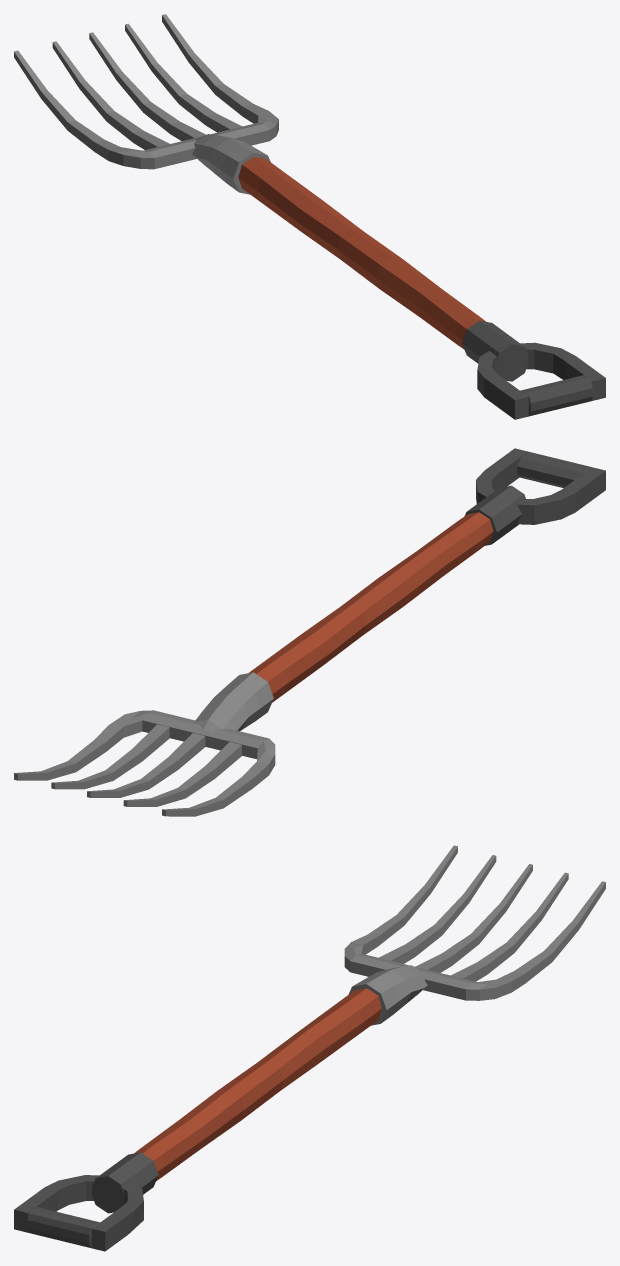
Rendered from pitchfork.glb.
3 renders of one model, top to bottom at view 1: azimuth 30°, elevation 25°; view 2: azimuth 150°, elevation 25°; view 3: azimuth 330°, elevation 25°, orthographic.
Parts seen in each view (by area): view 1: Pitchfork; view 2: Pitchfork; view 3: Pitchfork.
Part boxes in pixels (x1,y1,x2,y2): Pitchfork: (14, 14, 605, 419); Pitchfork: (14, 448, 605, 816); Pitchfork: (14, 845, 605, 1251).
Size of the model in its own units: 1.67 by 0.4281 by 8.49.
